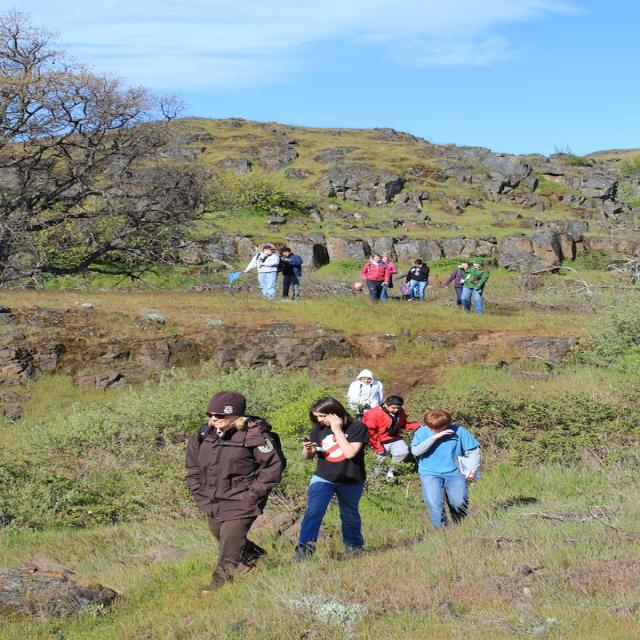body: (180, 388, 289, 596), (292, 394, 372, 562), (407, 409, 483, 530), (359, 394, 428, 486), (241, 244, 285, 302), (345, 367, 385, 422), (456, 256, 492, 316), (276, 247, 304, 304), (361, 253, 390, 304), (443, 260, 473, 308), (404, 258, 430, 303), (404, 262, 430, 300), (380, 252, 399, 302)
